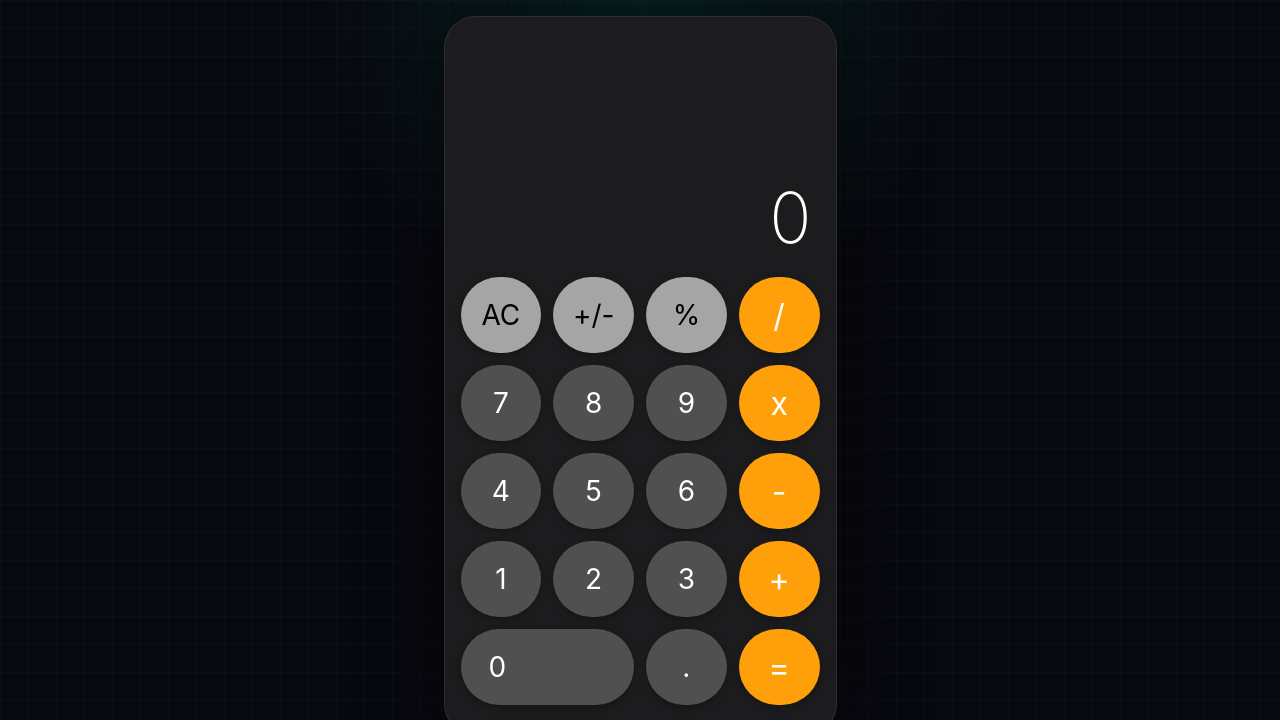
Scenario: CalculatorDecoy › 数字ボタンが正しく動く
Click the button "1" at {"x": 501, "y": 579}, box [460, 541, 541, 617]
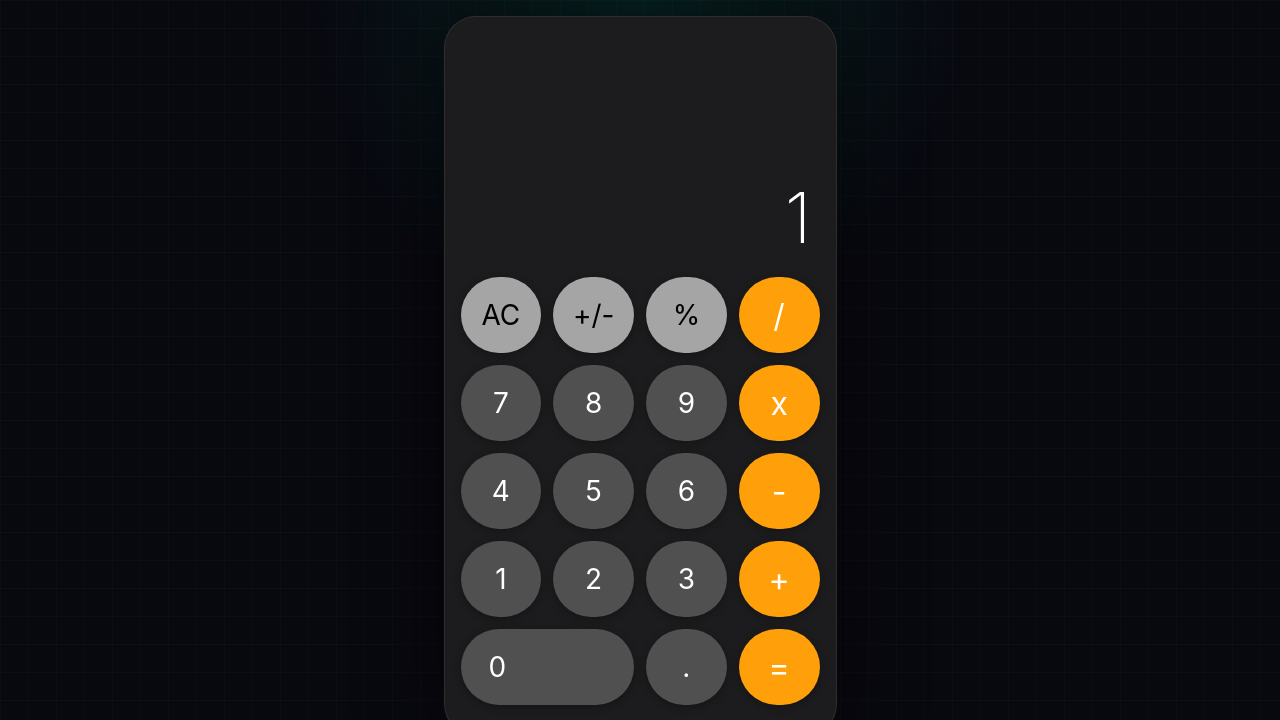
Click the button "2" at {"x": 594, "y": 579}, box [553, 541, 634, 617]
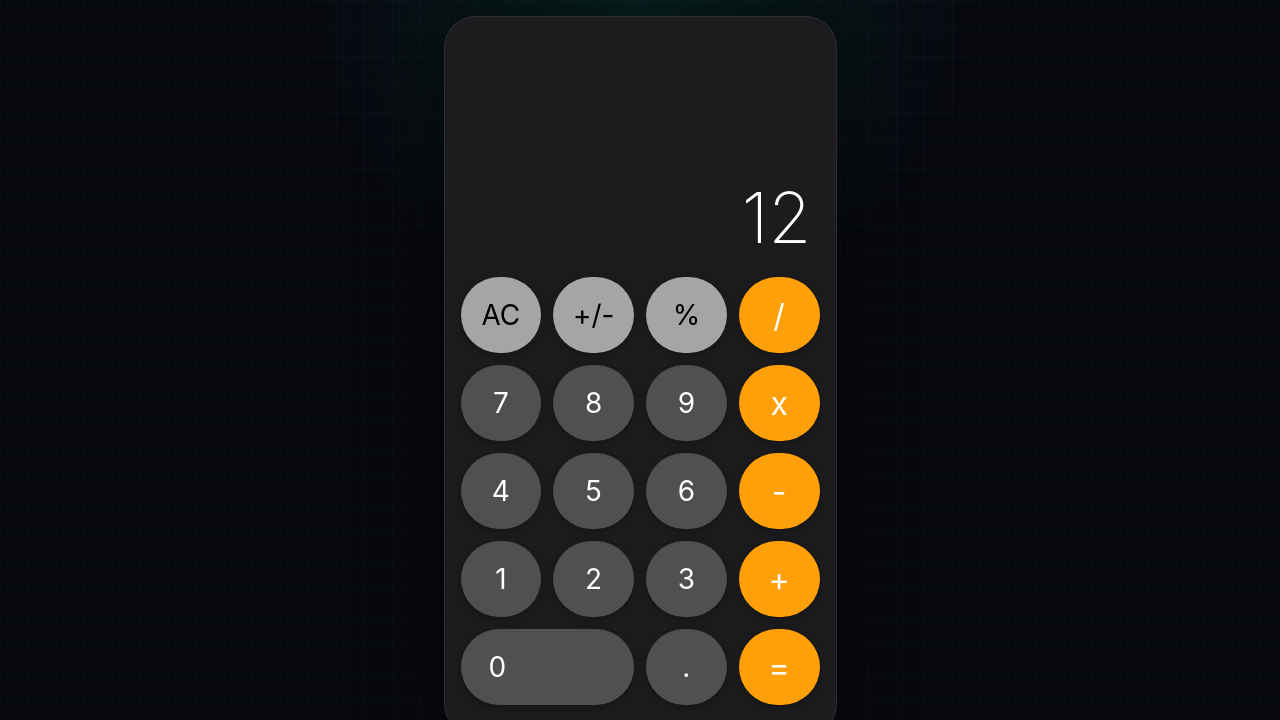
Click the button "3" at {"x": 686, "y": 579}, box [646, 541, 727, 617]
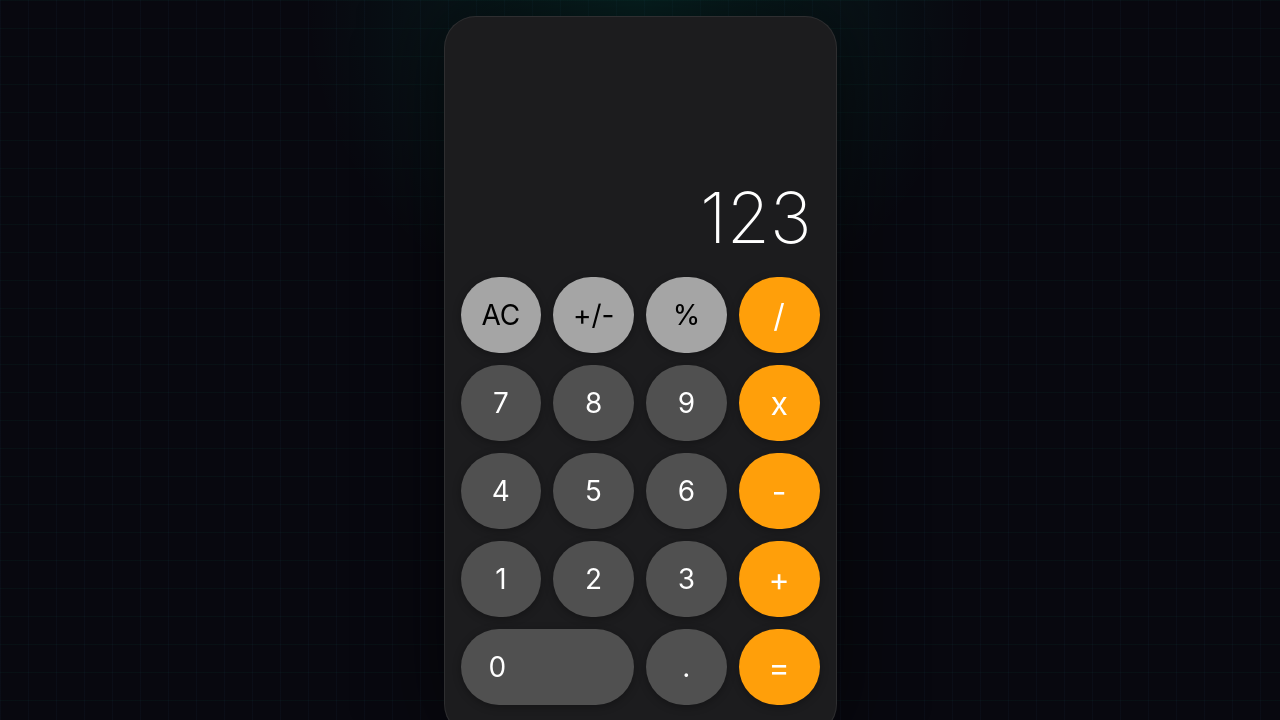
Now the text "123" is shown, box [700, 183, 812, 253]
